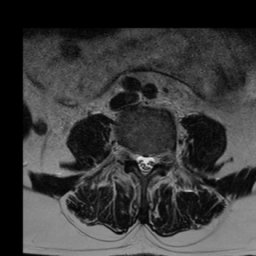CCS_normal: (141, 145, 148, 183)
LFS_normal: (156, 141, 164, 171)
LLS_normal: (148, 147, 156, 176)
RFS_normal: (126, 140, 134, 170)
RLS_normal: (134, 145, 141, 177)
